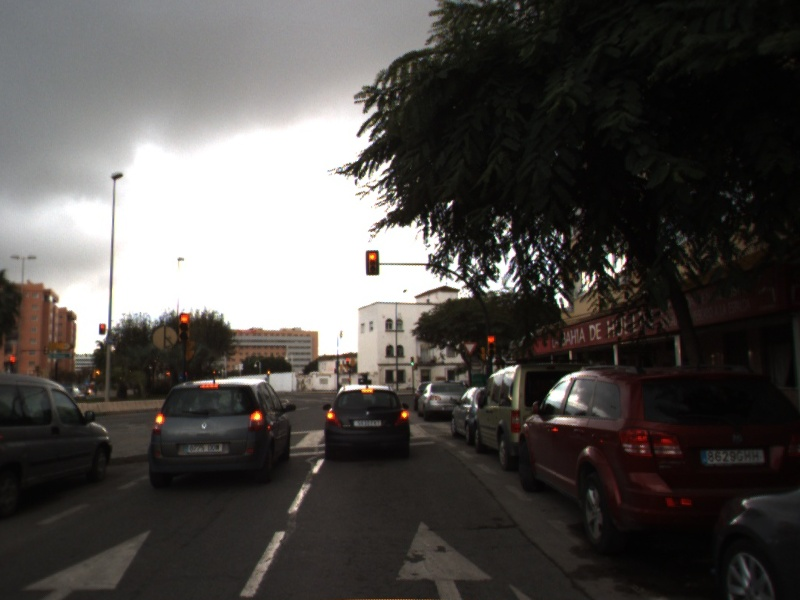STRAIGHT: (19, 528, 153, 600), (394, 519, 495, 600)
